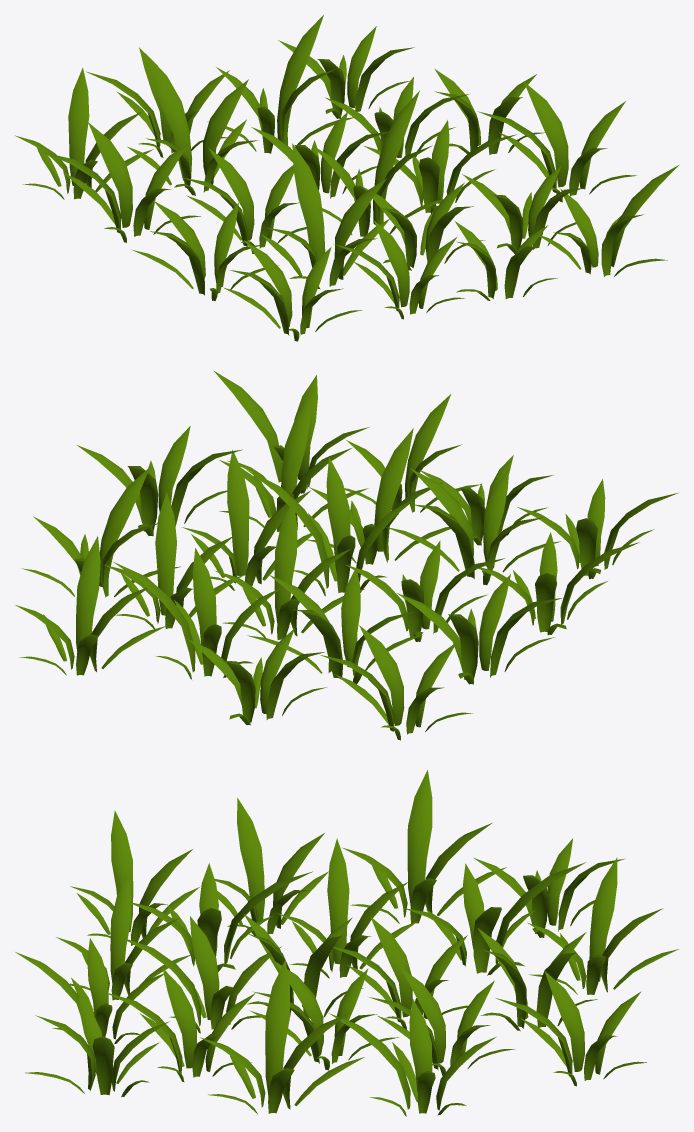
File: Grass_Final.fbx
3 renders of one model, top to bottom at view 1: azimuth 30°, elevation 25°; view 2: azimuth 150°, elevation 25°; view 3: azimuth 270°, elevation 25°, orthographic. The views are drawn at different scales.
Visible parts, largest first — view 1: pPlane51; view 2: pPlane51; view 3: pPlane51.
Boxes of the visible parts, bbox=[...] form: pPlane51: bbox=[15, 15, 678, 341]; pPlane51: bbox=[15, 370, 678, 740]; pPlane51: bbox=[15, 770, 678, 1116].
Size of the model in its own units: 1.22 by 0.2558 by 1.28.
